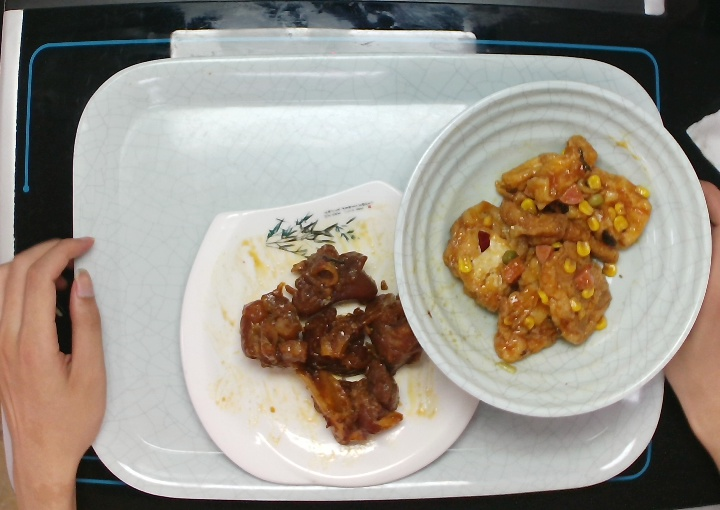JYsf-Da_Tang_Wan: (392, 77, 711, 422)
JYsf-Mian_Pan: (177, 179, 483, 484)
